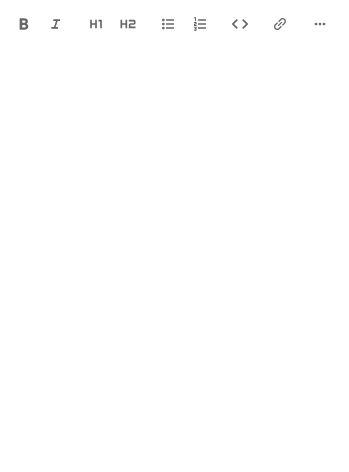
Test: FormattingToolbar › opens overflow menu on click
The width and height of the screenshot is (349, 472).
Click the button named "More formatting options" at (320, 24), box [308, 12, 332, 36]
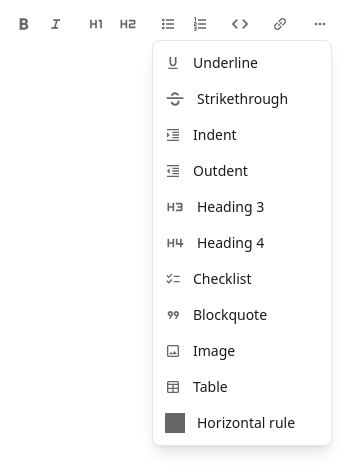
Now the menu is shown, box [152, 40, 332, 446]
Now the menu item "Underline" is shown, box [153, 45, 331, 81]
